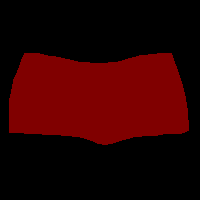mutande: (8, 52, 189, 145)
